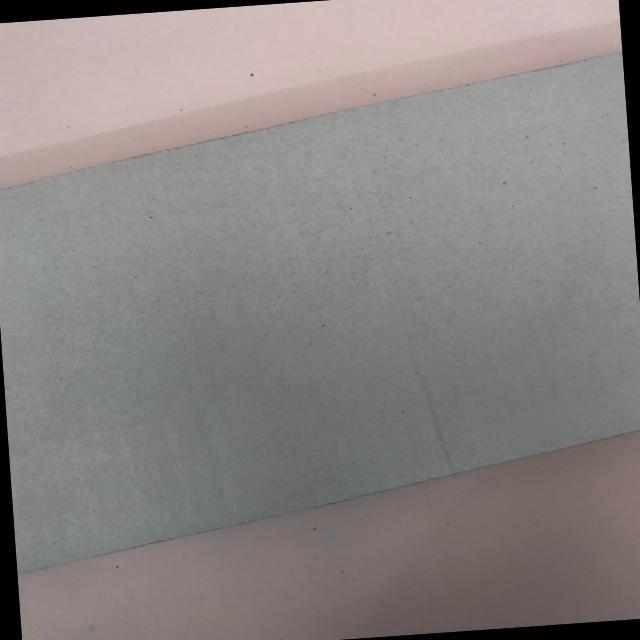cardboard: (0, 36, 640, 581)
